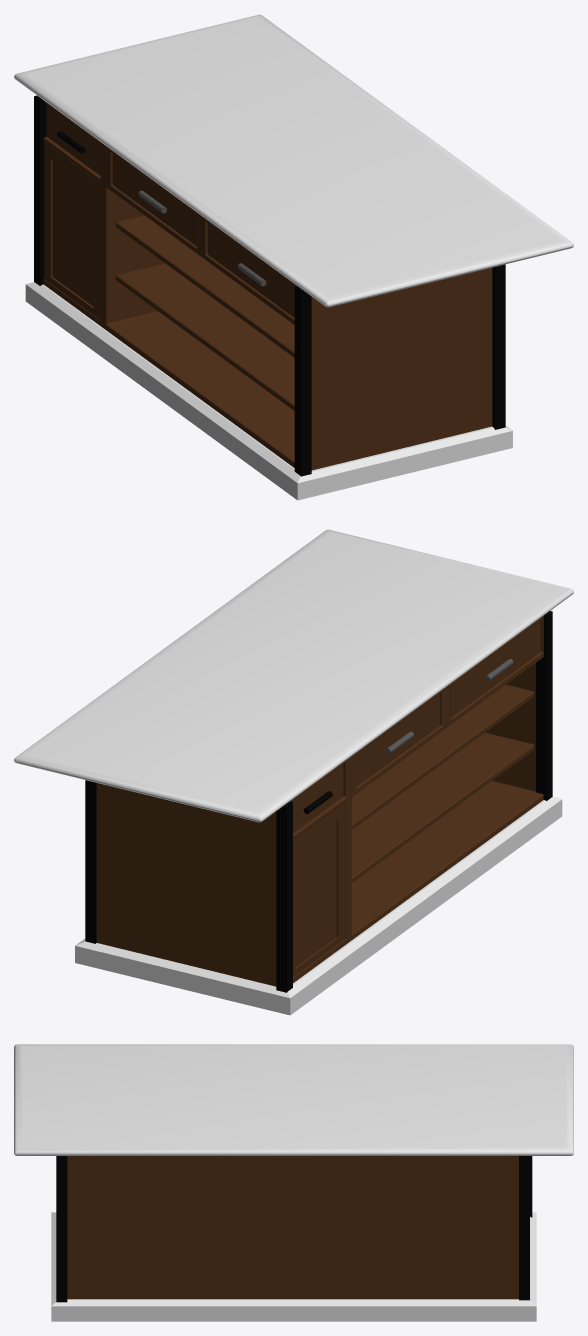
Rendered from Kitchen Island.fbx.
3 views of the same model, one above another, from view 1: azimuth 30°, elevation 25°; view 2: azimuth 150°, elevation 25°; view 3: azimuth 270°, elevation 25° (orthographic). The views are drawn at different scales.
Visible parts, largest first — view 1: Cube.002, Cube, Cube.001, Cube.008, Cube.009, Cube.007, Cube.005, Cube.011, Cube.010, Cube.004, Cube.006, Cube.012; view 2: Cube.002, Cube, Cube.001, Cube.008, Cube.009, Cube.007, Cube.006, Cube.005, Cube.011, Cube.010, Cube.003, Cube.012; view 3: Cube, Cube.002, Cube.001, Cube.004, Cube.003.
Boxes of the visible parts, left/top/right/bottom form: Cube.002: left=14, top=14, right=573, bottom=307; Cube: left=43, top=100, right=492, bottom=470; Cube.001: left=25, top=282, right=512, bottom=500; Cube.008: left=116, top=263, right=294, bottom=410; Cube.009: left=44, top=142, right=100, bottom=319; Cube.007: left=116, top=215, right=294, bottom=357; Cube.005: left=294, top=286, right=311, bottom=476; Cube.011: left=207, top=223, right=294, bottom=317; Cube.010: left=112, top=153, right=196, bottom=246; Cube.004: left=492, top=264, right=505, bottom=429; Cube.006: left=34, top=95, right=46, bottom=285; Cube.012: left=46, top=104, right=100, bottom=175; Cube.002: left=14, top=529, right=573, bottom=822; Cube: left=96, top=616, right=543, bottom=986; Cube.001: left=75, top=797, right=562, bottom=1015; Cube.008: left=352, top=732, right=534, bottom=882; Cube.009: left=293, top=802, right=345, bottom=976; Cube.007: left=352, top=684, right=534, bottom=829; Cube.006: left=276, top=801, right=292, bottom=992; Cube.005: left=536, top=611, right=552, bottom=800; Cube.011: left=451, top=620, right=540, bottom=717; Cube.010: left=356, top=694, right=439, bottom=786; Cube.003: left=85, top=780, right=96, bottom=943; Cube.012: left=292, top=764, right=343, bottom=832; Cube: left=67, top=1156, right=518, bottom=1299; Cube.002: left=14, top=1044, right=573, bottom=1155; Cube.001: left=51, top=1212, right=536, bottom=1321; Cube.004: left=56, top=1156, right=67, bottom=1302; Cube.003: left=519, top=1156, right=529, bottom=1300.
Size of the model in its own units: 361 by 285 by 766.
